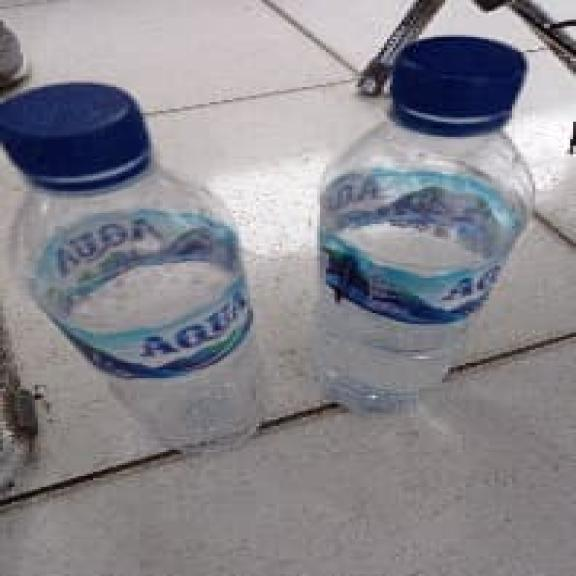Plastik: (5, 83, 259, 448), (319, 36, 532, 413)
